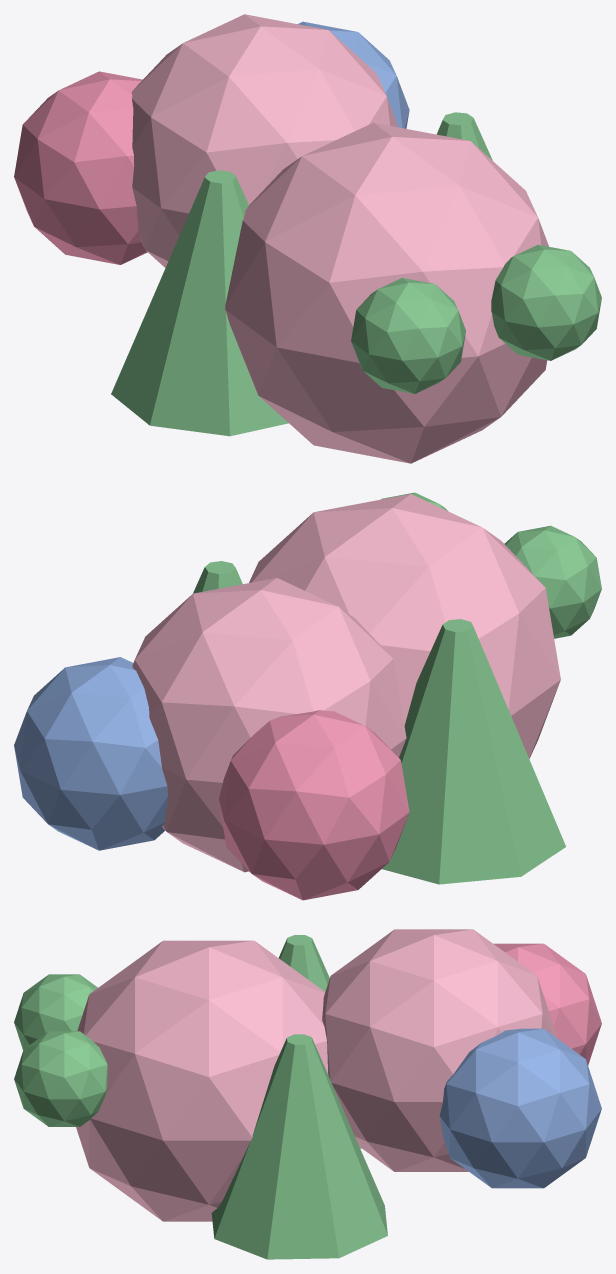
Rendered from cherrim.glb.
The picture shows the model from 3 angles, top to bottom: view 1: azimuth 30°, elevation 25°; view 2: azimuth 150°, elevation 25°; view 3: azimuth 270°, elevation 25°; orthographic projection. The views are drawn at different scales.
Parts seen in each view (by area): view 1: body, head, capeL, flowerL, footL, footR, flowerR, capeR; view 2: head, body, capeL, flowerL, flowerR, footL, capeR; view 3: body, head, capeR, flowerR, footR, flowerL, footL, capeL.
Boxes of the visible parts, bbox=[...] form: body: bbox=[225, 122, 548, 463]; head: bbox=[131, 14, 398, 267]; capeL: bbox=[111, 170, 288, 436]; flowerL: bbox=[14, 71, 147, 264]; footL: bbox=[351, 278, 465, 393]; footR: bbox=[491, 244, 601, 360]; flowerR: bbox=[298, 21, 409, 128]; capeR: bbox=[436, 112, 492, 160]; head: bbox=[132, 578, 406, 872]; body: bbox=[249, 494, 560, 758]; capeL: bbox=[382, 619, 565, 884]; flowerL: bbox=[219, 710, 409, 900]; flowerR: bbox=[14, 657, 167, 850]; footL: bbox=[504, 525, 601, 638]; capeR: bbox=[193, 561, 242, 593]; body: bbox=[76, 940, 328, 1221]; head: bbox=[322, 929, 557, 1171]; capeR: bbox=[211, 1034, 387, 1259]; flowerR: bbox=[439, 1028, 601, 1188]; footR: bbox=[14, 1031, 107, 1126]; flowerL: bbox=[493, 943, 601, 1065]; footL: bbox=[14, 974, 97, 1050]; capeL: bbox=[279, 935, 361, 1148].
Size of the model in its own units: 1.23 by 0.92 by 1.75.
